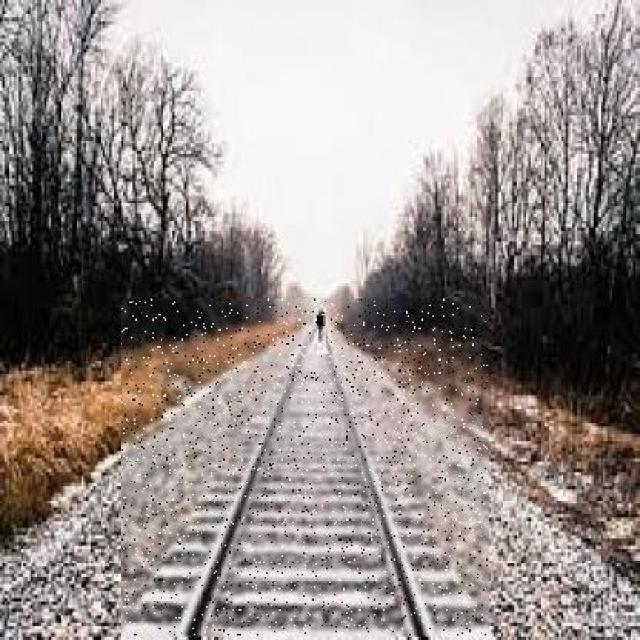rail: (122, 301, 489, 636)
